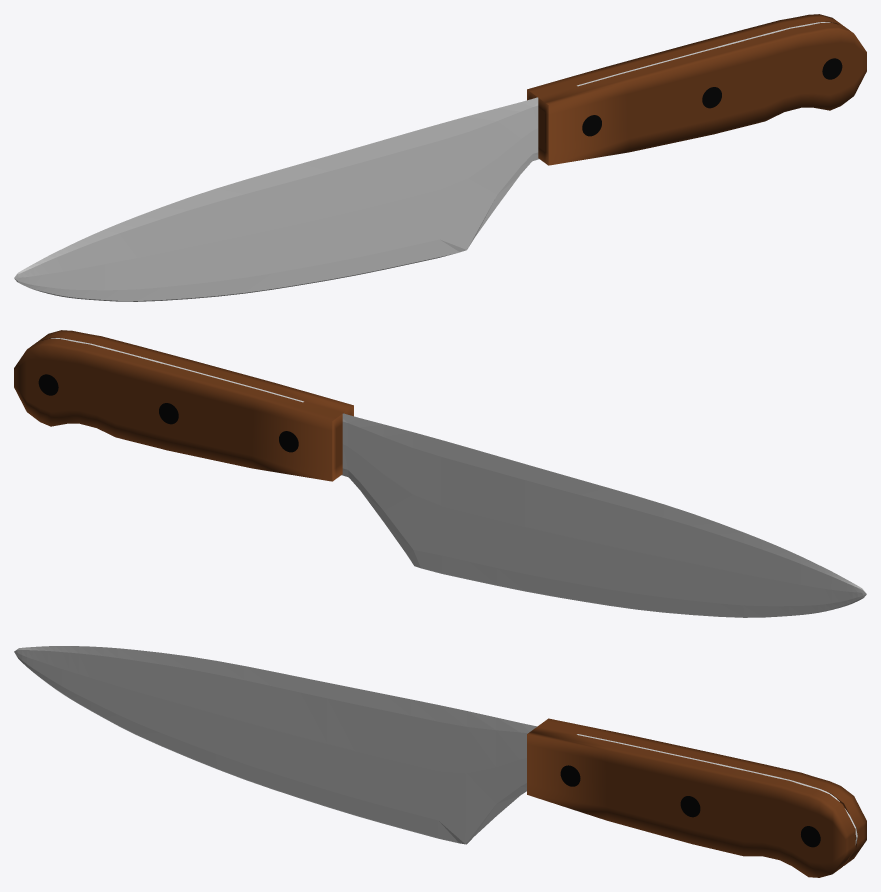
The model's file is knife2.dae.
The picture shows the model from 3 angles, top to bottom: view 1: azimuth 30°, elevation 25°; view 2: azimuth 150°, elevation 25°; view 3: azimuth 330°, elevation 25°; orthographic projection.
Parts seen in each view (by area): view 1: blade, handvat, Cylinder; view 2: blade, handvat, Cylinder; view 3: blade, handvat, Cylinder.
Part boxes in pixels (x1,y1,x2,y2): blade: [14, 22, 830, 301]; handvat: [527, 14, 866, 165]; Cylinder: [582, 58, 842, 136]; blade: [51, 338, 866, 617]; handvat: [14, 330, 353, 481]; Cylinder: [38, 374, 298, 452]; blade: [14, 646, 857, 844]; handvat: [527, 718, 866, 877]; Cylinder: [560, 765, 820, 847].
Bounding box in the file's own units: 8.19 × 0.364 × 1.34.
